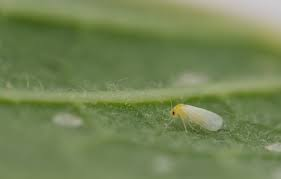Tobacco Whitefly: (158, 95, 231, 144)
